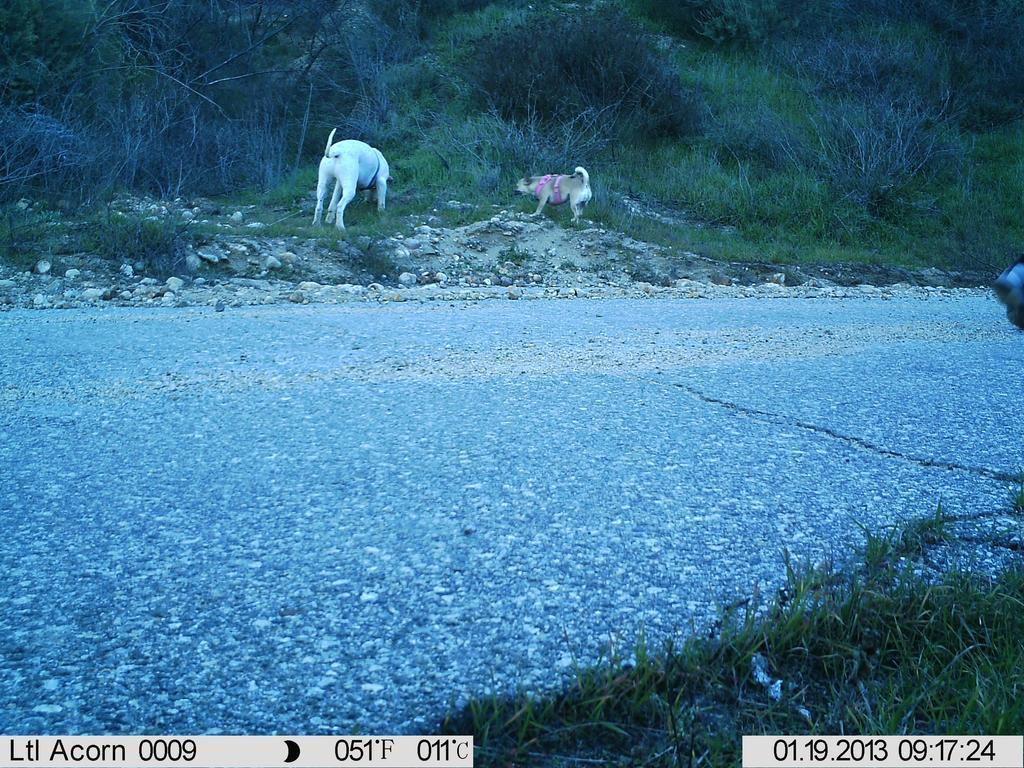dog: (294, 123, 411, 247), (503, 158, 605, 231)
